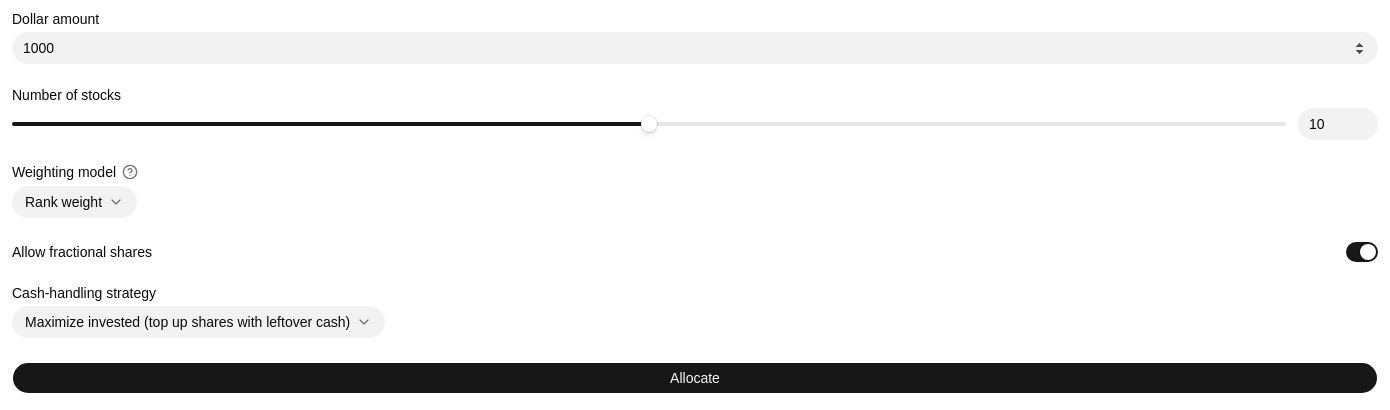
Test: AllocationControls - model-selector help tooltip › updates to describe a different model once one is selected
Hover over the button named "what does this model mean" at (130, 172), box [122,164,138,180]
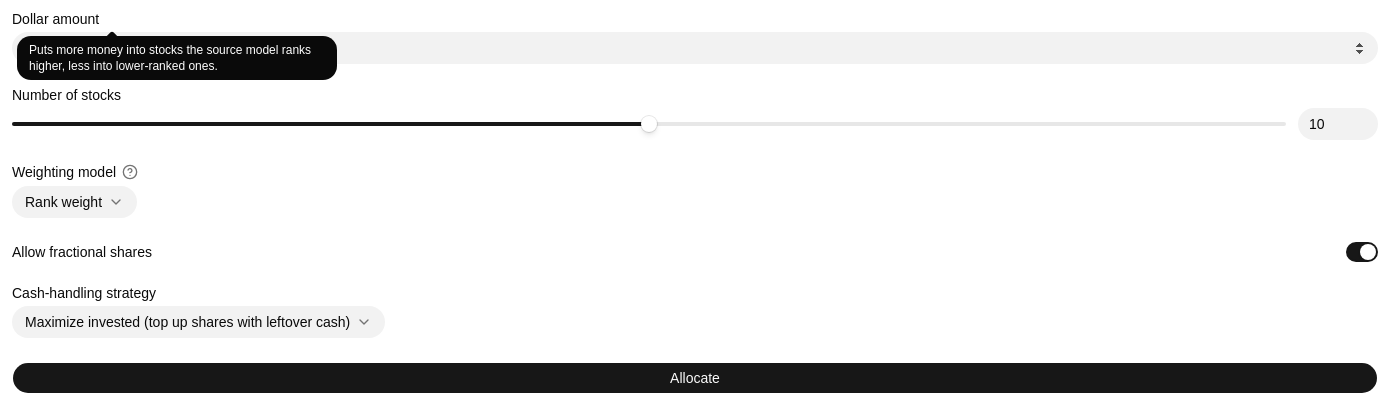
Expected: the tooltip shows "rank", [29,43,311,73]
